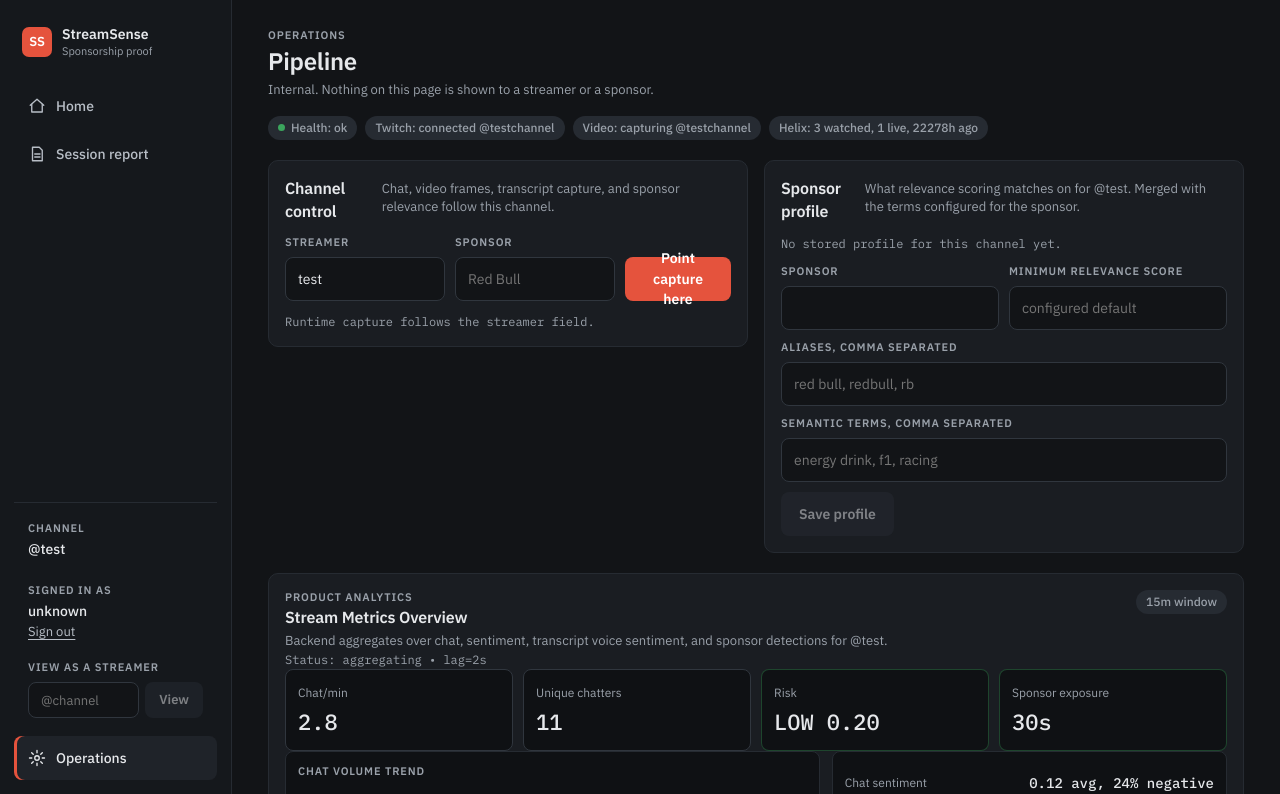
Test: App › parses the sponsor profile fields before sending them
Expected: the text "Health: ok" is shown, [268, 116, 357, 140]
Step 1. Type "Red Bull" into the field labelled "Sponsor" below "Minimum relevance score" → (890, 308), box [781, 286, 999, 330]
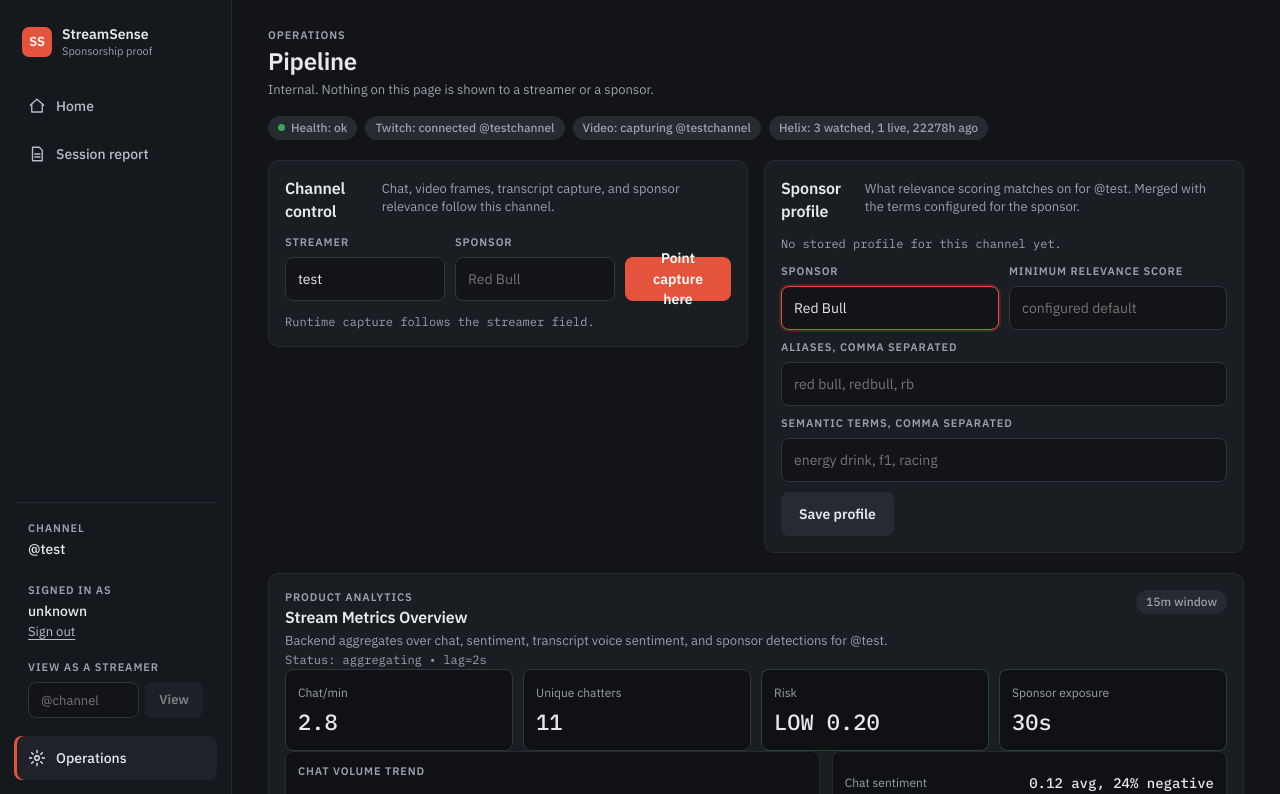
Step 2. Type "red bull, , rb " into the field labelled "Aliases, comma separated" → (1004, 384), box [781, 362, 1227, 406]
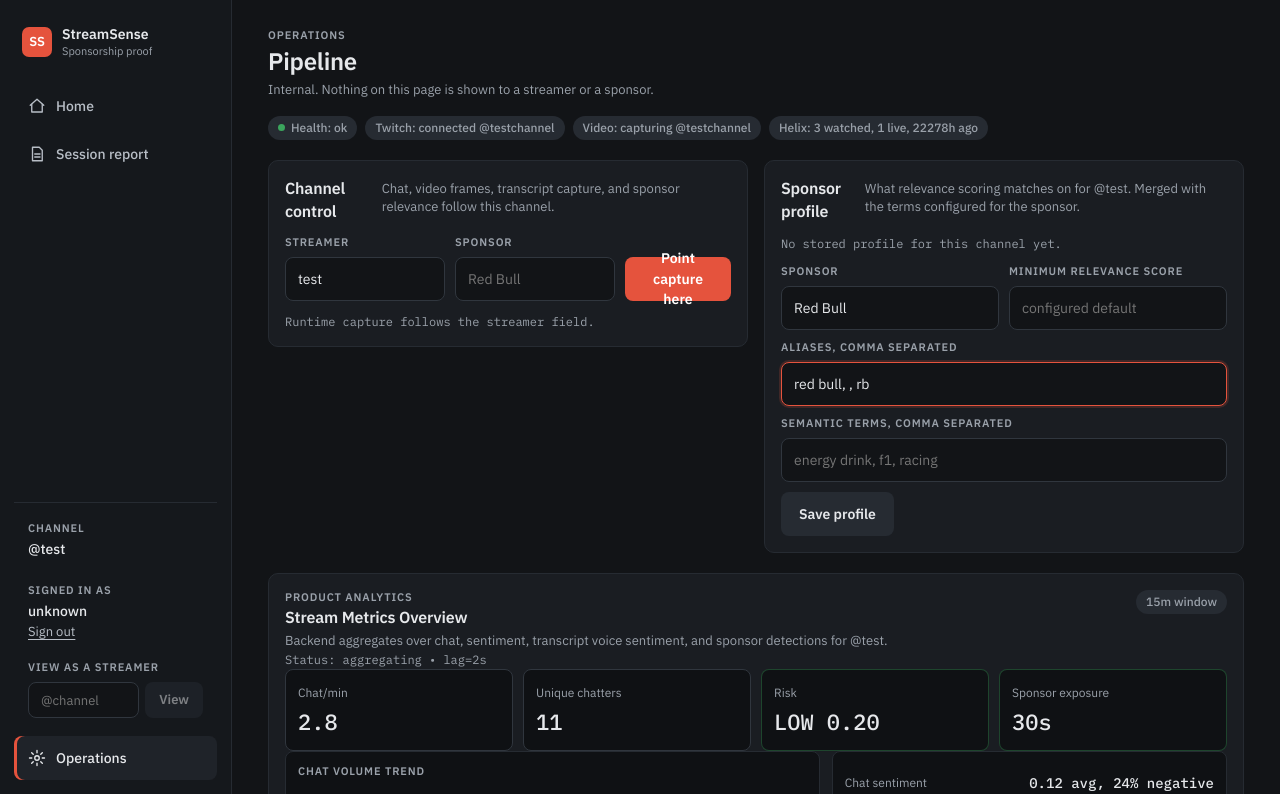
Step 3. Type "energy drink" into the field labelled "Semantic terms, comma separated" → (1004, 460), box [781, 438, 1227, 482]
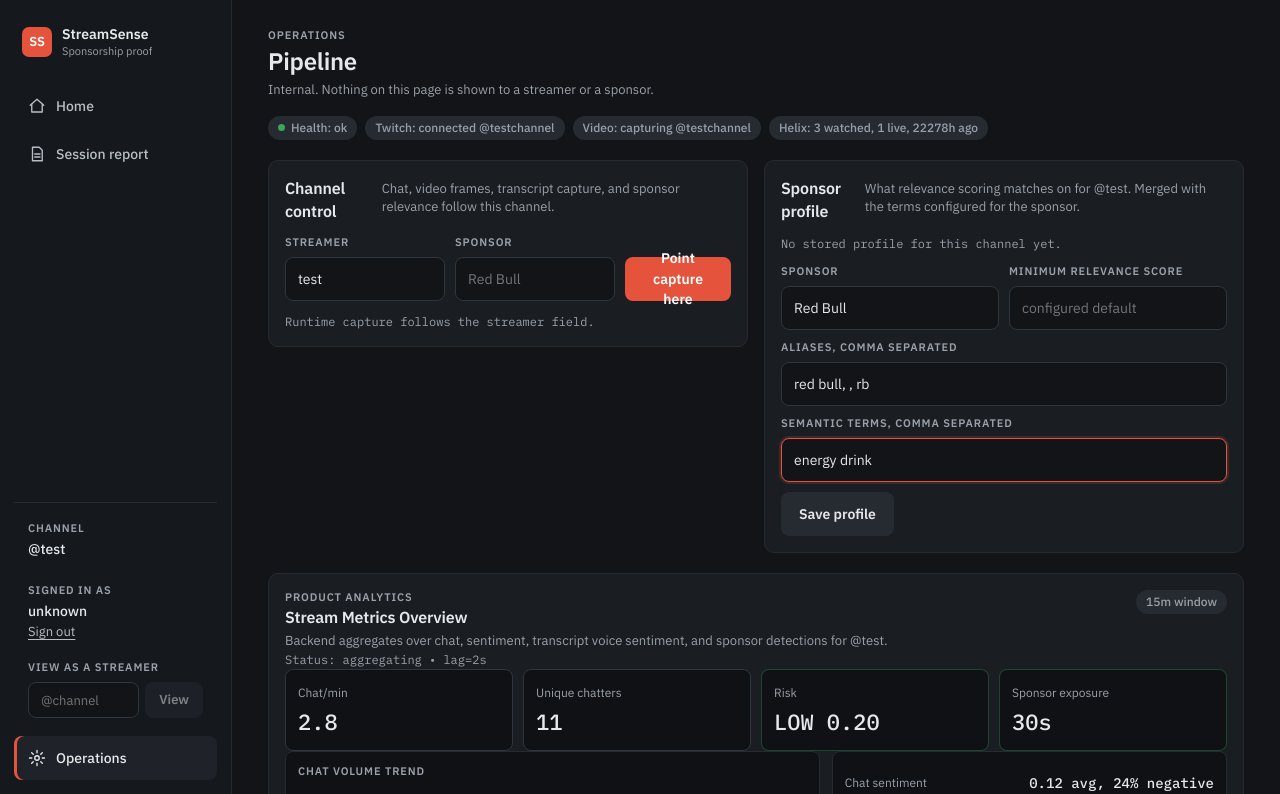
Step 4. Type "0.6" into the field labelled "Minimum relevance score" → (1118, 308), box [1009, 286, 1227, 330]
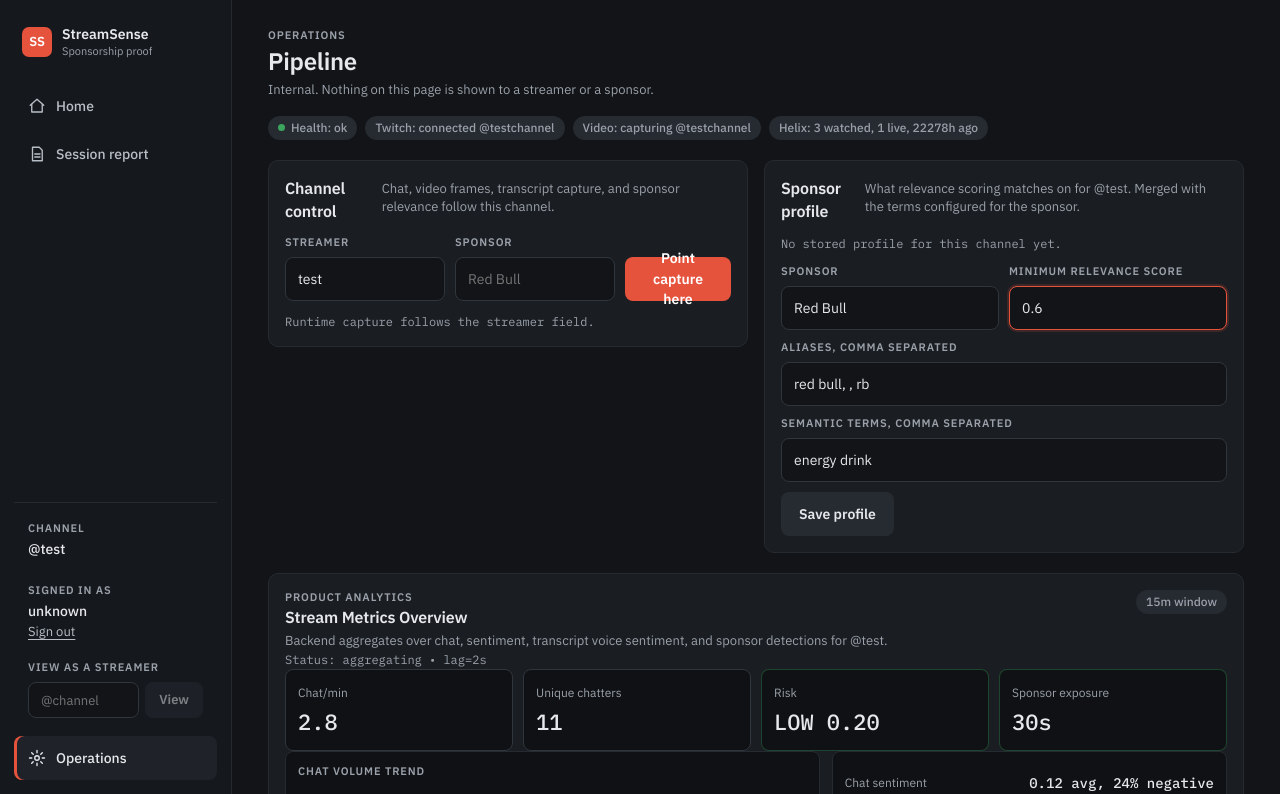
Step 5. Click the button "Save profile" → (837, 514), box [781, 492, 894, 536]
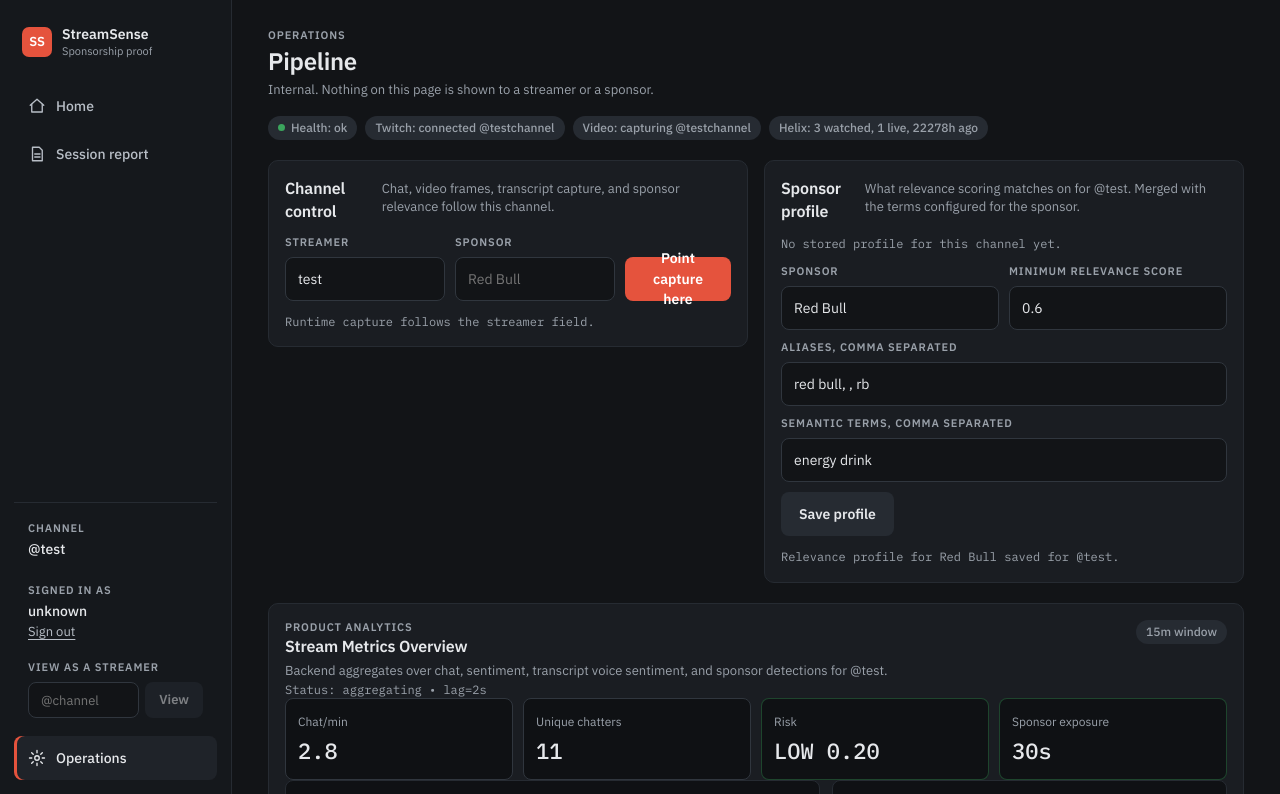
Result: the text "Relevance profile for Red Bull saved for @test." is shown at [781, 549, 1119, 564]
